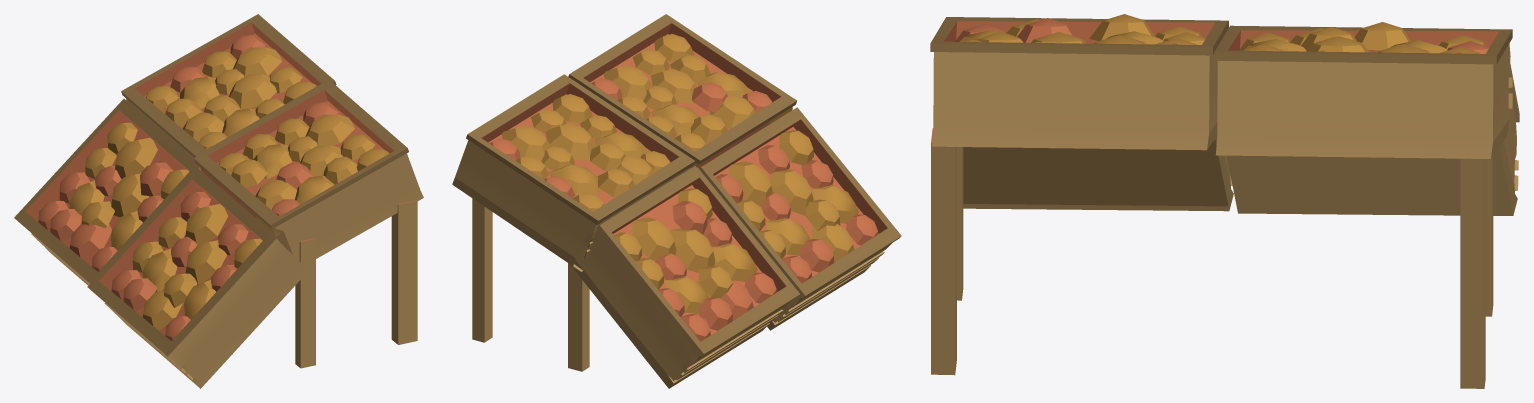
File: vegbox_01.fbx
3 renders of one model, left to right at view 1: azimuth 30°, elevation 25°; view 2: azimuth 150°, elevation 25°; view 3: azimuth 270°, elevation 25°, orthographic. The views are drawn at different scales.
Visible parts, largest first — view 1: Fruit_Basket; view 2: Fruit_Basket; view 3: Fruit_Basket.
Part boxes in pixels (x1=…): Fruit_Basket: x1=14, y1=14, x2=423, y2=388; Fruit_Basket: x1=452, y1=14, x2=901, y2=388; Fruit_Basket: x1=930, y1=14, x2=1519, y2=388.
Size of the model in its own units: 217 by 155 by 244.
1 material, 1 textured.
